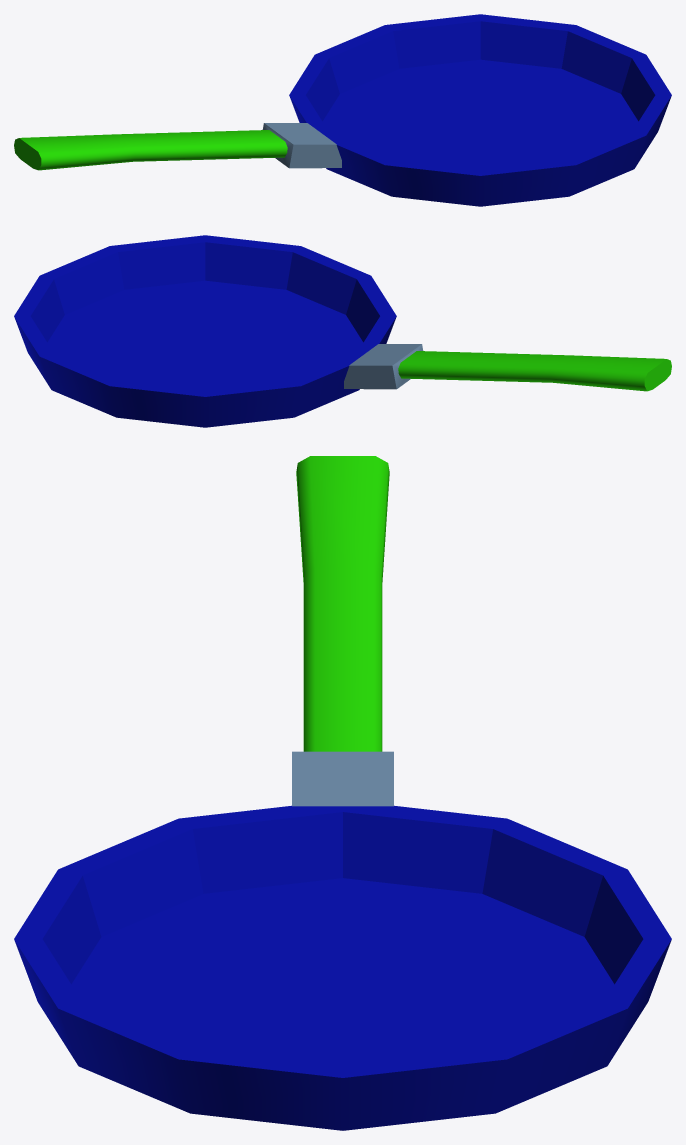
Rendered from Pouel_version_textures.fbx.
3 renders of one model, top to bottom at view 1: azimuth 30°, elevation 25°; view 2: azimuth 150°, elevation 25°; view 3: azimuth 270°, elevation 25°, orthographic. The views are drawn at different scales.
Visible parts, largest first — view 1: Cylinder001; view 2: Cylinder001; view 3: Cylinder001.
Boxes of the visible parts, x1=… form: Cylinder001: x1=14, y1=14, x2=671, y2=206; Cylinder001: x1=14, y1=235, x2=671, y2=427; Cylinder001: x1=14, y1=456, x2=671, y2=1130.
Size of the model in its own units: 174 by 26.09 by 93.3.
